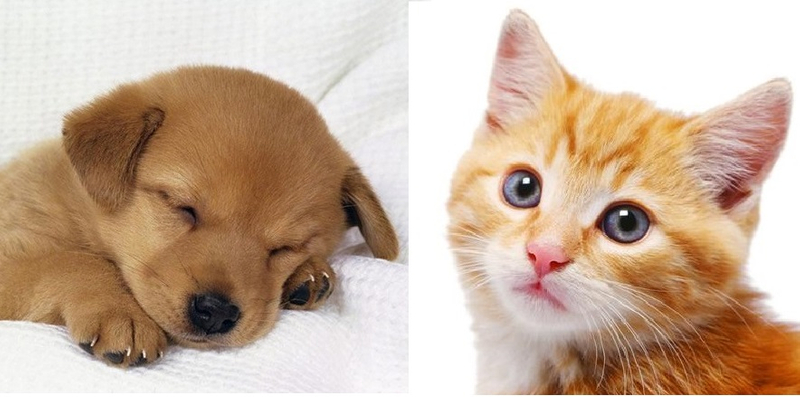cat: (440, 8, 800, 394)
dog: (1, 67, 400, 369)
